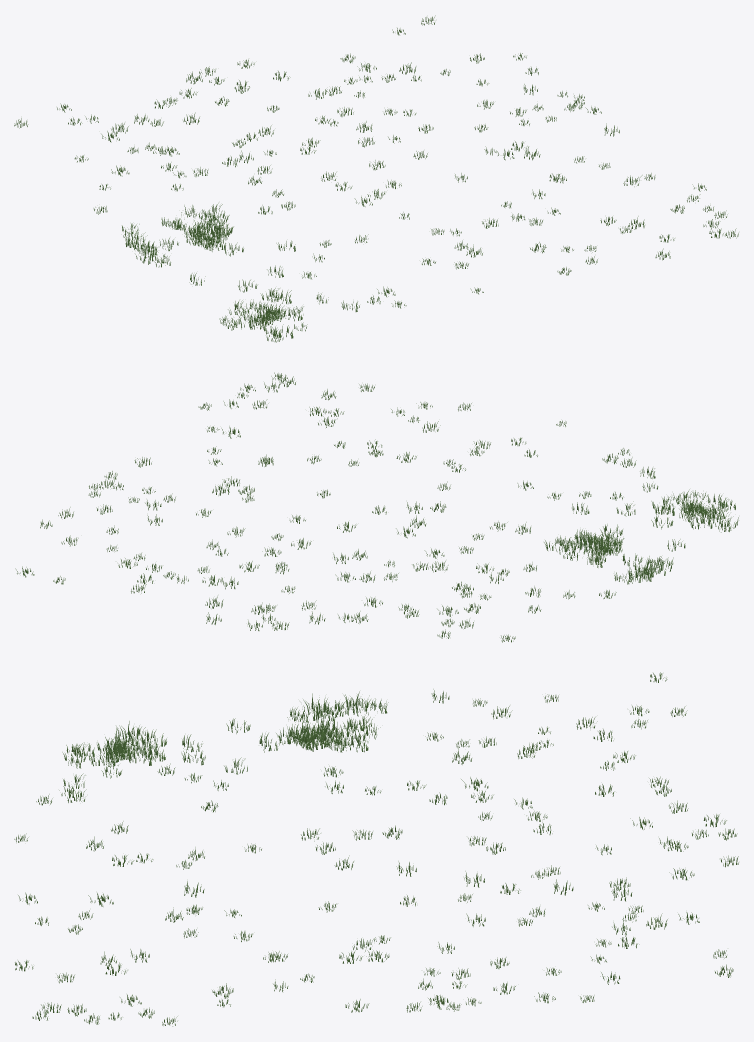
The model's file is P2N_forest_grass_-9_5.glb.
3 renders of one model, top to bottom at view 1: azimuth 30°, elevation 25°; view 2: azimuth 150°, elevation 25°; view 3: azimuth 270°, elevation 25°, orthographic. The views are drawn at different scales.
Visible parts, largest first — view 1: P2N_forest_grass_-9_5; view 2: P2N_forest_grass_-9_5; view 3: P2N_forest_grass_-9_5.
Boxes of the visible parts, x1=… form: P2N_forest_grass_-9_5: x1=14, y1=15, x2=738, y2=342; P2N_forest_grass_-9_5: x1=15, y1=372, x2=738, y2=642; P2N_forest_grass_-9_5: x1=14, y1=672, x2=738, y2=1026.
Size of the model in its own units: 33.08 by 3.33 by 32.41.
